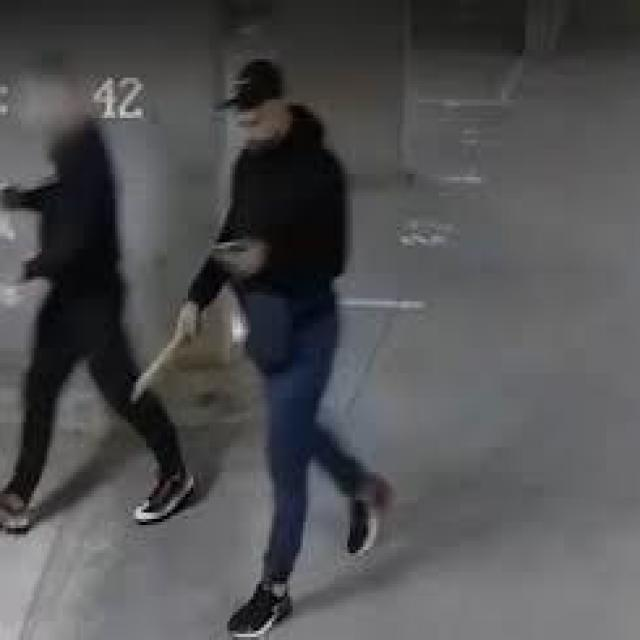weapon: (120, 298, 214, 404)
